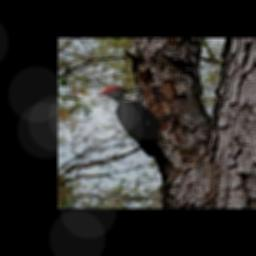Woodpecker: (98, 86, 177, 183)
